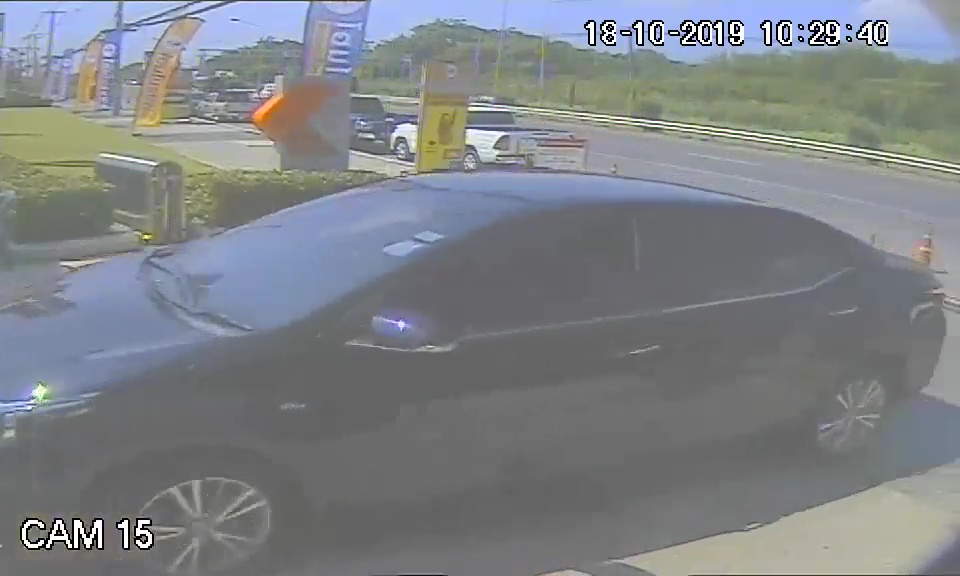sedan: (3, 169, 946, 539)
